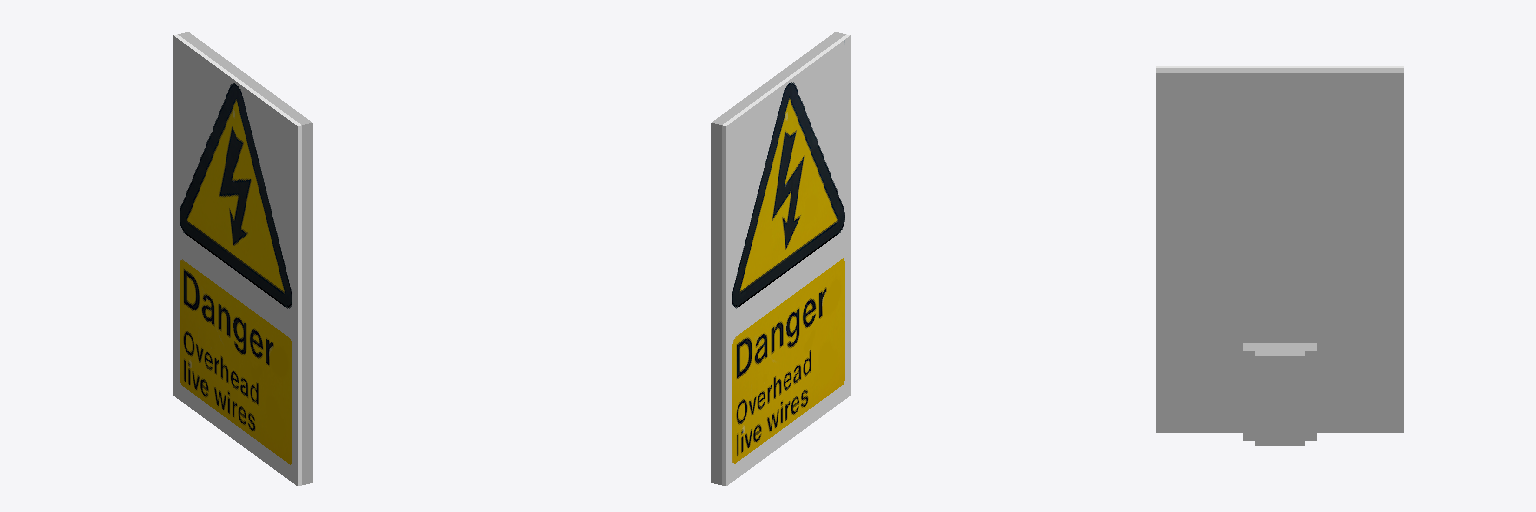
The picture shows the model from 3 angles: view 1: azimuth 30°, elevation 25°; view 2: azimuth 150°, elevation 25°; view 3: azimuth 270°, elevation 25°; orthographic projection.
Visible parts, largest first — view 1: cube; view 2: cube; view 3: cube.
Boxes of the visible parts, box(x1,y1,x2,y2) form: cube: box(173, 32, 312, 485); cube: box(711, 32, 850, 485); cube: box(1156, 66, 1403, 445).
Size of the model in its own units: 0.0594 by 0.5 by 0.3125.
Materials: 2 (1 with a texture image).